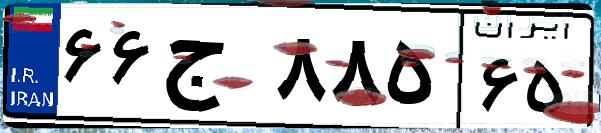5: (385, 28, 445, 110), (525, 38, 570, 115)
6: (57, 26, 110, 100), (475, 38, 525, 113), (110, 28, 158, 98)
8: (270, 28, 330, 110), (330, 28, 385, 110)
ج: (158, 20, 270, 120)
